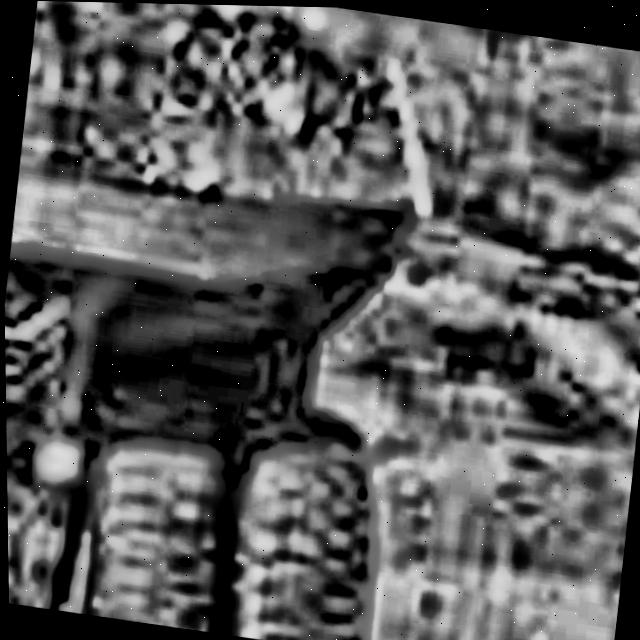dump_truck: (0, 0, 469, 640)
